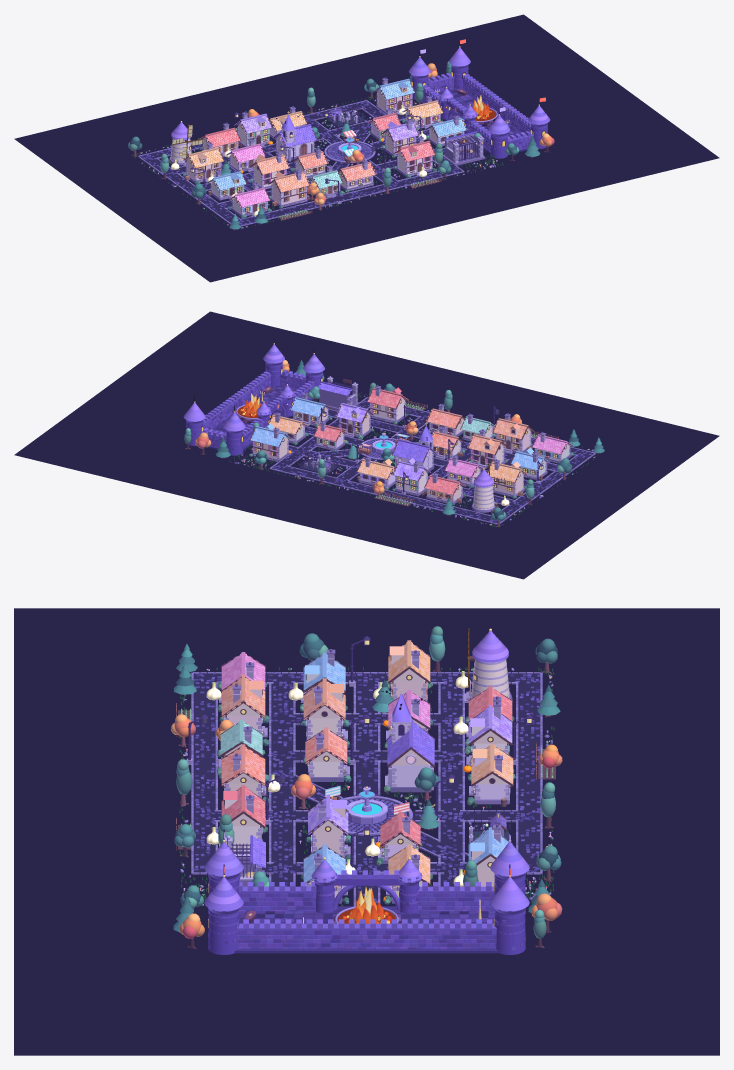
File: village.glb
The picture shows the model from 3 angles, top to bottom: view 1: azimuth 30°, elevation 25°; view 2: azimuth 150°, elevation 25°; view 3: azimuth 270°, elevation 25°; orthographic projection. The views are drawn at different scales.
Parts seen in each view (by area): view 1: Detail (×4), Village, Props, Grass; view 2: Detail (×5), Village, Props, Grass; view 3: Detail (×11), Props, Village, Grass.
Boxes of the visible parts, x1=… form: Detail (×4): x1=14, y1=14, x2=719, y2=282; Village: x1=168, y1=77, x2=485, y2=220; Props: x1=128, y1=46, x2=554, y2=229; Grass: x1=131, y1=95, x2=503, y2=229; Detail (×5): x1=14, y1=311, x2=719, y2=579; Village: x1=249, y1=376, x2=574, y2=514; Props: x1=183, y1=343, x2=604, y2=526; Grass: x1=229, y1=391, x2=593, y2=527; Detail (×11): x1=14, y1=608, x2=719, y2=1055; Props: x1=171, y1=626, x2=562, y2=954; Village: x1=176, y1=628, x2=555, y2=904; Grass: x1=179, y1=666, x2=554, y2=906.
Size of the model in its own units: 60 by 5.42 by 40.
